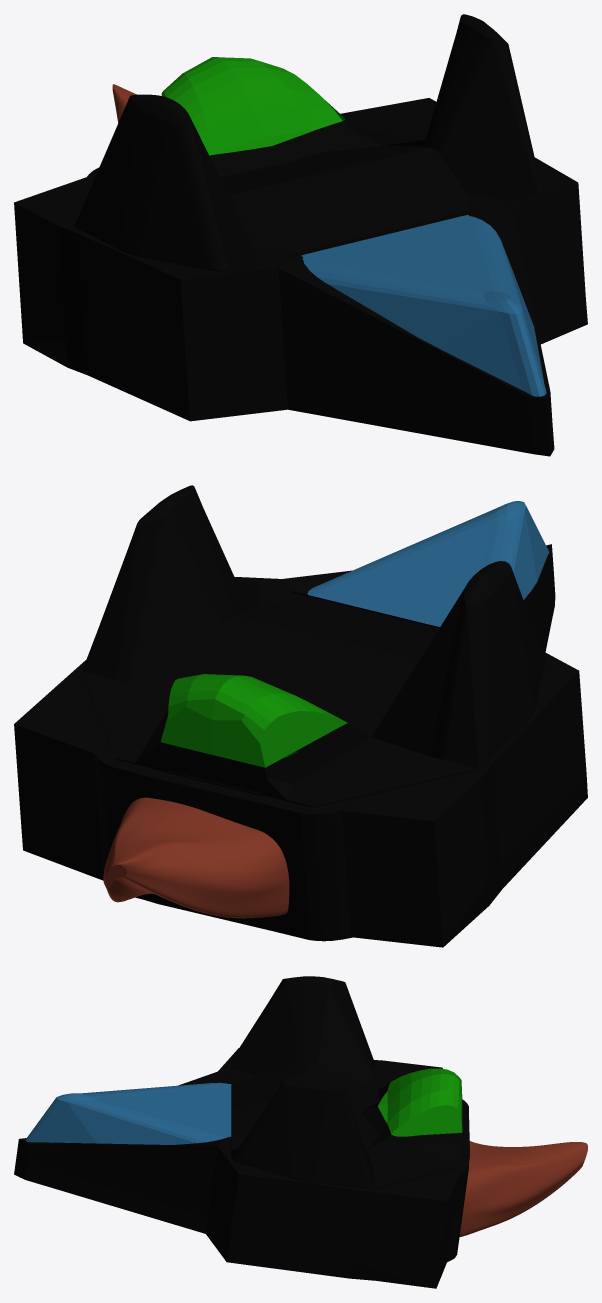
The model's file is si-alus-1-1.fbx.
3 renders of one model, top to bottom at view 1: azimuth 30°, elevation 25°; view 2: azimuth 150°, elevation 25°; view 3: azimuth 270°, elevation 25°, orthographic. The views are drawn at different scales.
Visible parts, largest first — view 1: Cube.024, Cube.016, Cube.007, Cube.009; view 2: Cube.016, Cube.024, Cube.006, Cube.007, Cube.009; view 3: Cube.024, Cube.016, Cube.007, Cube.006, Cube.009.
Boxes of the visible parts, left/top/right/bottom form: Cube.024: left=14, top=98, right=587, bottom=456; Cube.016: left=74, top=14, right=542, bottom=272; Cube.007: left=301, top=215, right=546, bottom=396; Cube.009: left=161, top=57, right=345, bottom=155; Cube.016: left=82, top=485, right=545, bottom=807; Cube.024: left=14, top=544, right=587, bottom=947; Cube.006: left=103, top=797, right=289, bottom=918; Cube.007: left=307, top=501, right=549, bottom=626; Cube.009: left=160, top=674, right=347, bottom=768; Cube.024: left=14, top=1048, right=469, bottom=1288; Cube.016: left=231, top=976, right=462, bottom=1189; Cube.007: left=25, top=1082, right=231, bottom=1144; Cube.006: left=459, top=1141, right=587, bottom=1236; Cube.009: left=378, top=1068, right=462, bottom=1136.
Bounding box in the file's own units: 720 × 497 × 1307.
